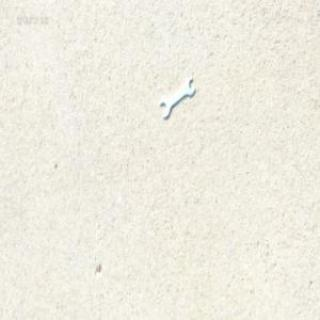Wrenchtrack_idkeyframe: (160, 76, 195, 118)
